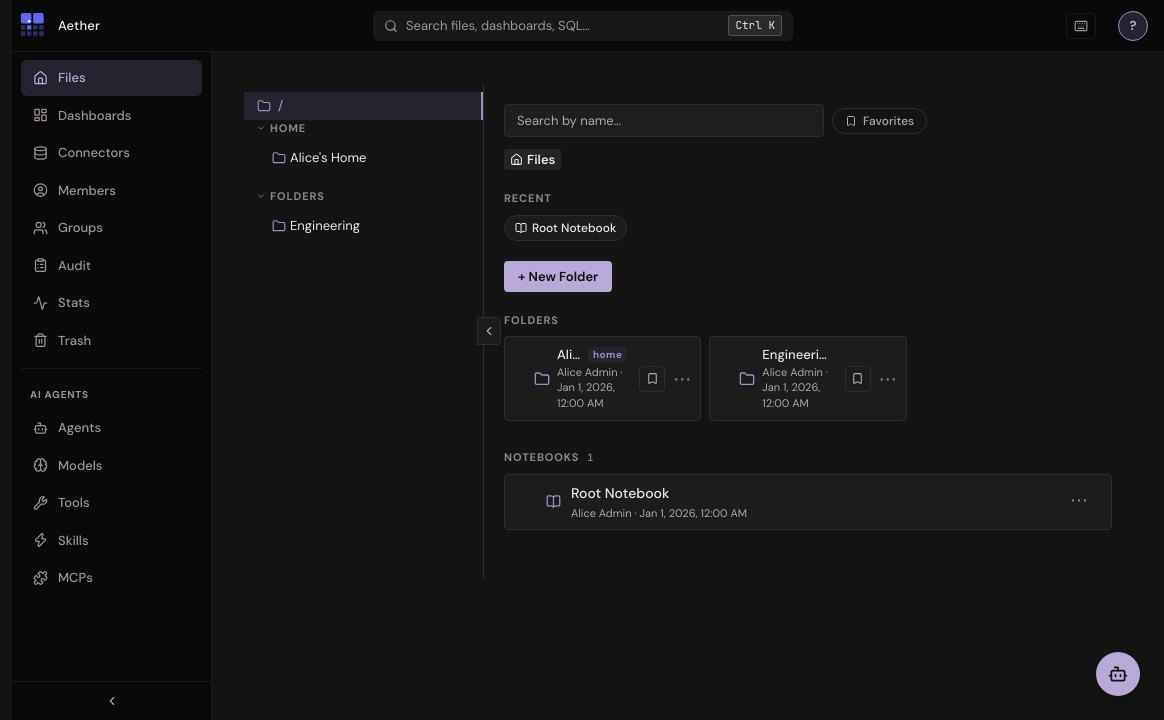
Rename (T2.7) › clicking Rename shows inline input pre-filled with current name
The image size is (1164, 720).
Step 1. Click the 2nd button titled "More options" → click(888, 379), box [871, 370, 906, 388]
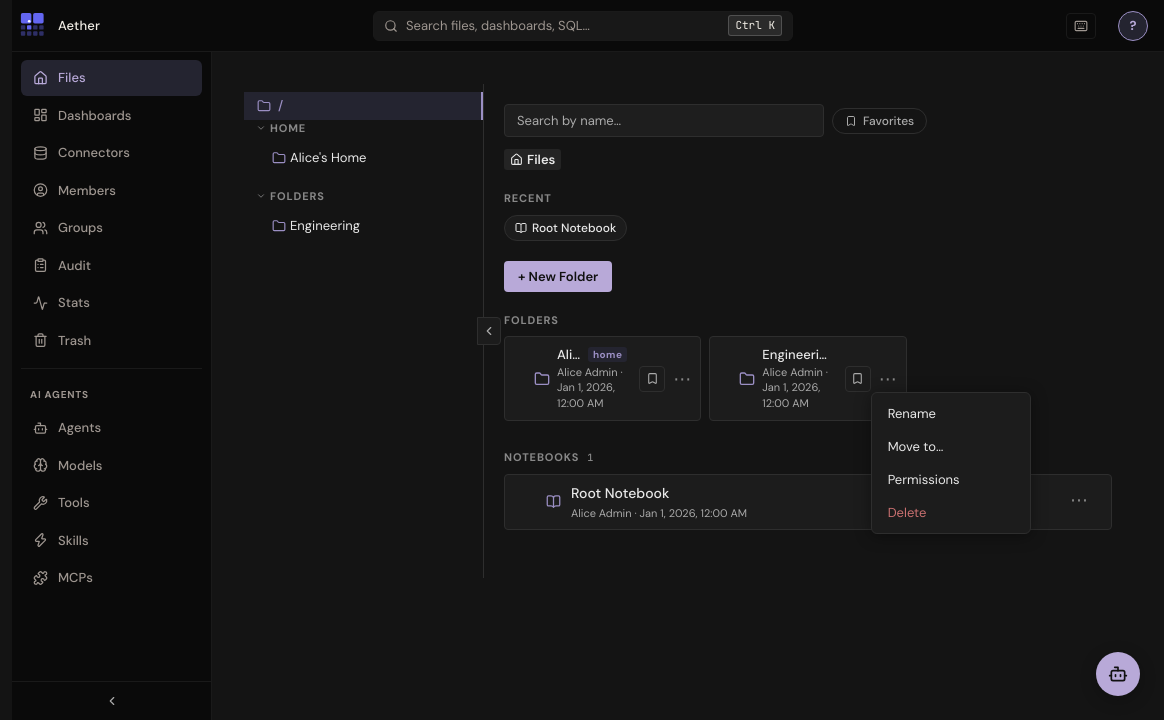
Step 2. Click the button "Rename" → click(951, 413), box [872, 397, 1030, 430]
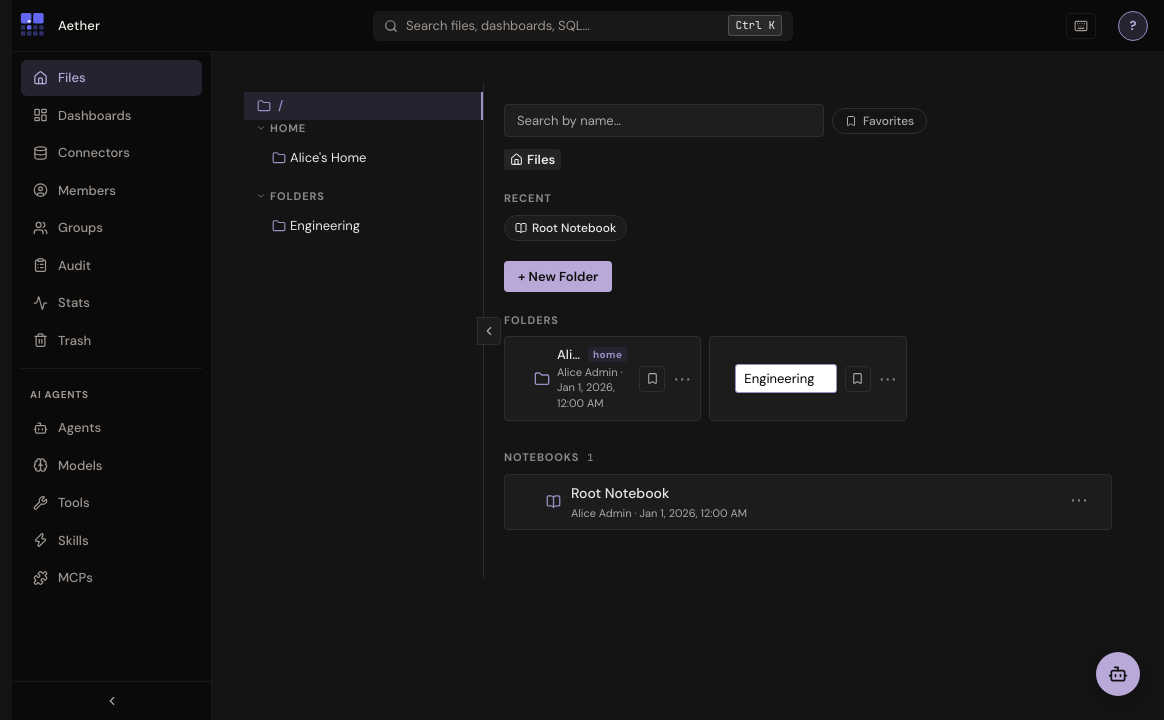
Expected: the field showing "Engineering" is shown, [735, 364, 837, 393]
